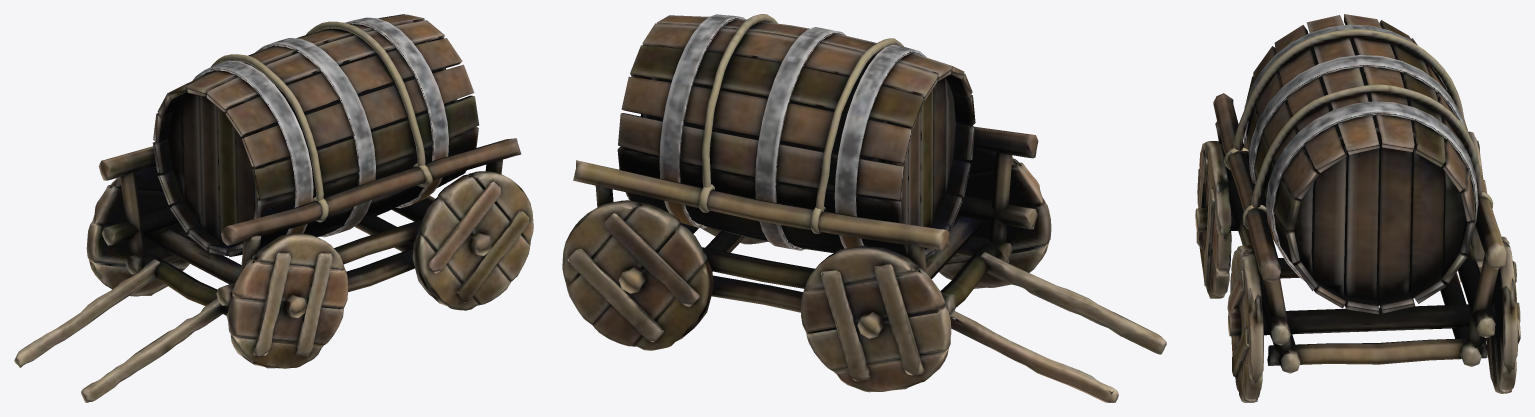
3 renders of one model, left to right at view 1: azimuth 30°, elevation 25°; view 2: azimuth 150°, elevation 25°; view 3: azimuth 270°, elevation 25°, orthographic. The views are drawn at different scales.
Parts seen in each view (by area): view 1: defaultMaterial.017; view 2: defaultMaterial.017; view 3: defaultMaterial.017.
Part boxes in pixels (bbox=[...]): defaultMaterial.017: bbox=[14, 14, 533, 402]; defaultMaterial.017: bbox=[562, 14, 1166, 402]; defaultMaterial.017: bbox=[1195, 14, 1520, 402].
Bounding box in the file's own units: 10.08 × 5.4 × 5.6.
Materials: 1 (1 with a texture image).
